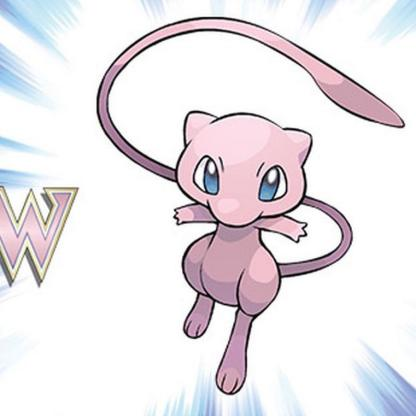Mew: (95, 1, 416, 412)
